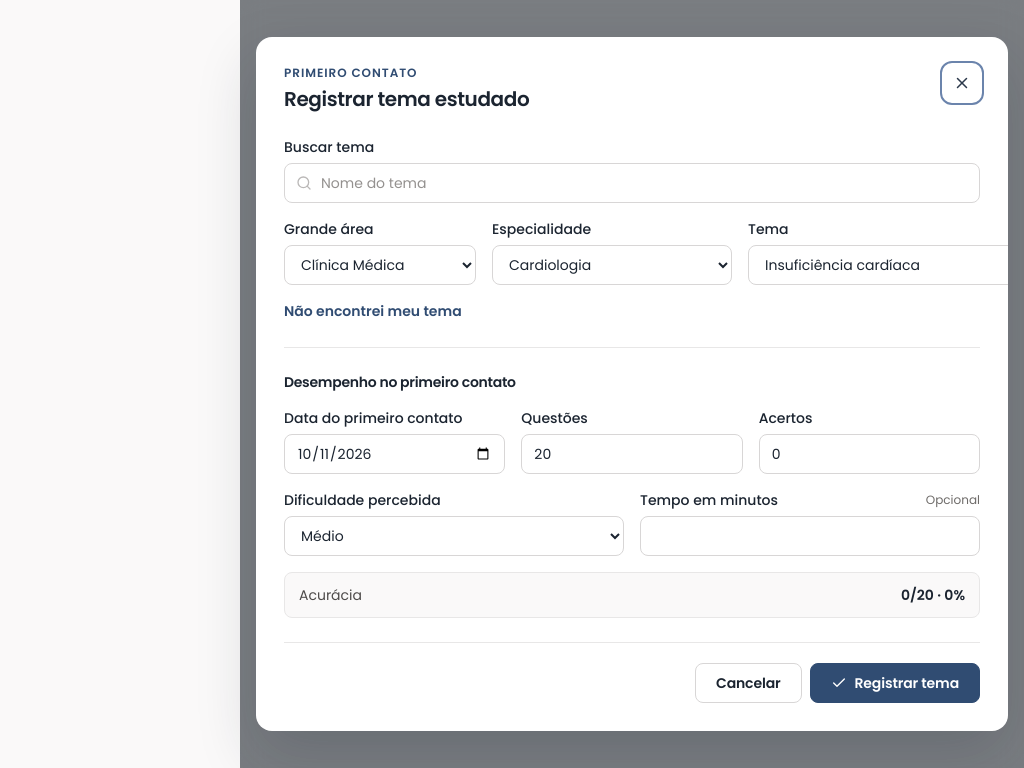
Test: TopicFormModal › removes the new topic again when its first contact cannot be saved
The image size is (1024, 768).
Check: the dropdown labelled "Tema" shows "Insuficiência cardíaca", box [748, 245, 1008, 285]
Click the button "Registrar tema" at coordinates (895, 683), box [810, 663, 980, 703]
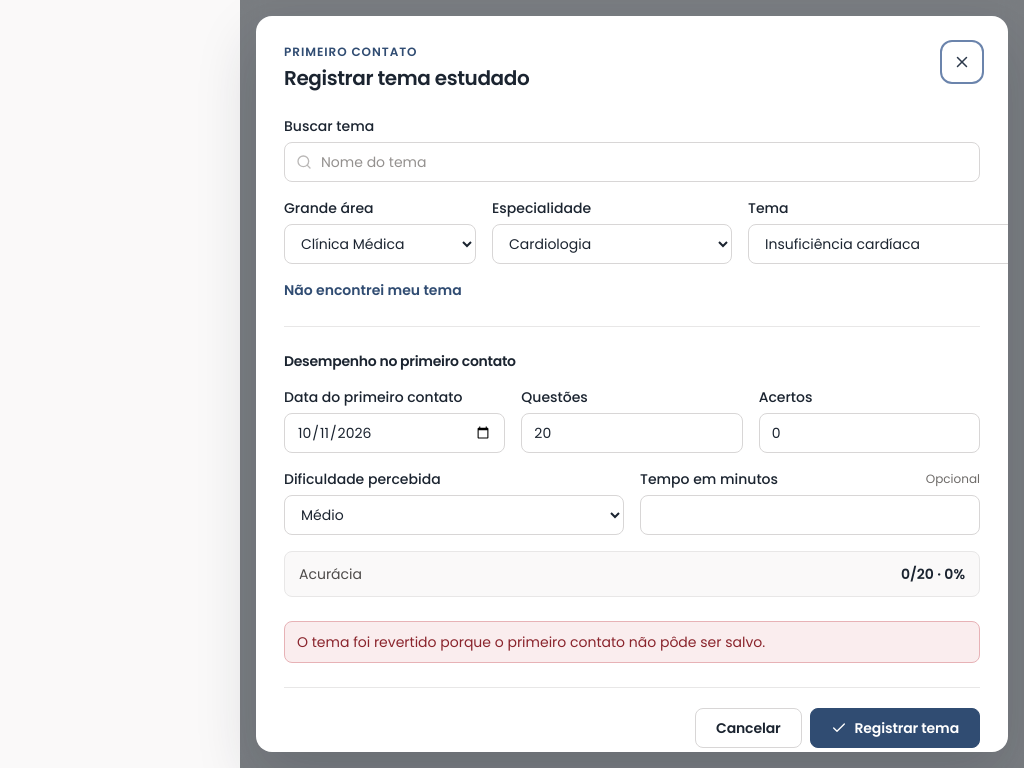
Check: the text "O tema foi revertido" is shown, box [297, 632, 765, 652]
